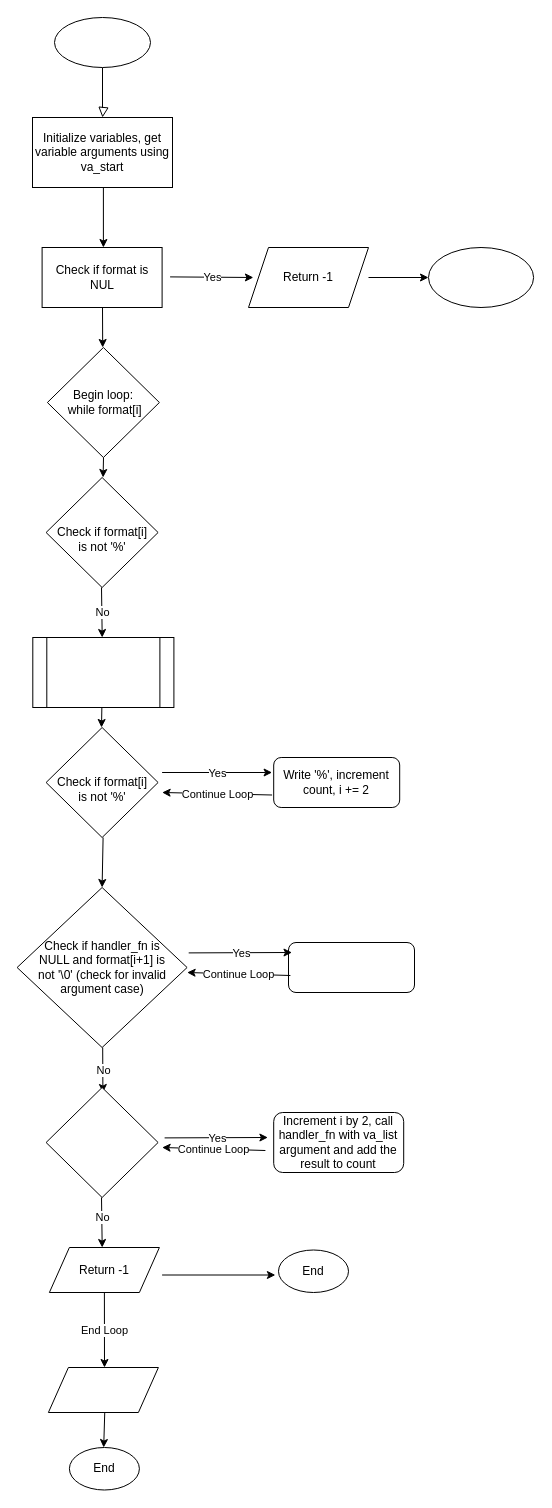
The diagram is 552 pixels wide and 1508 high, and some of its shapes have lost their labels. Each missing label, with the centre of its shape:
"Check if handler_fn is not NULL" goes at point (101, 1142).
"Get handler_fn using get_print_func with the argument (format[i+1])" goes at point (103, 672).
"Return count" goes at point (102, 1389).
"Start" goes at point (102, 42).
"Terminate program" goes at point (481, 277).
"Write character format[i], increment i and count" goes at point (351, 967).
